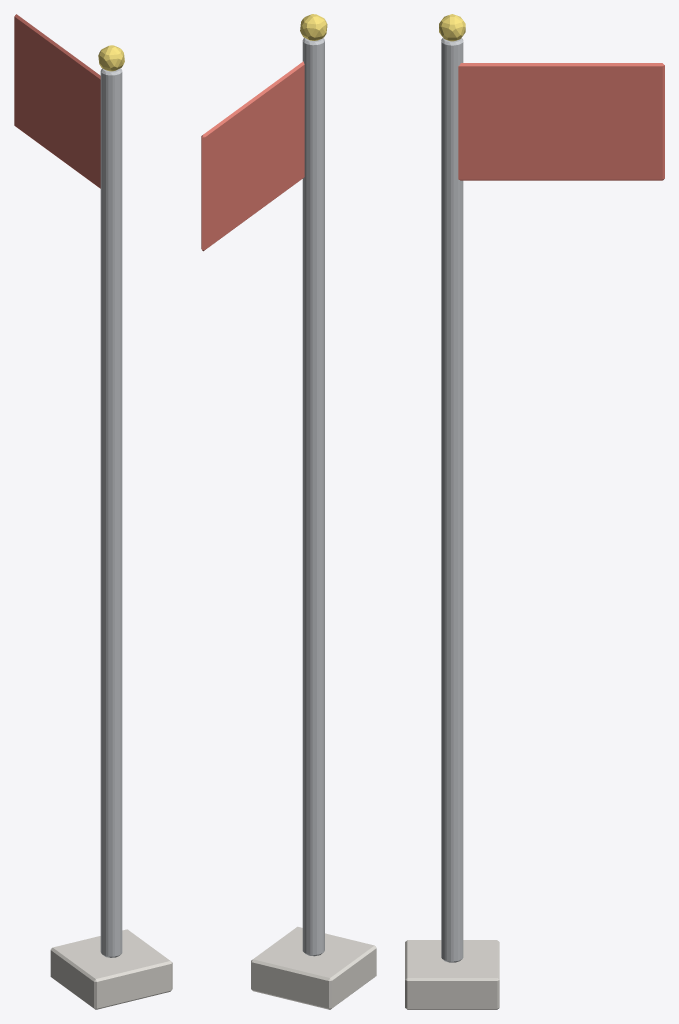
3 views of the same model, side by side, from view 1: azimuth 30°, elevation 25°; view 2: azimuth 150°, elevation 25°; view 3: azimuth 270°, elevation 25° (orthographic). The views are drawn at different scales.
Visible parts, largest first — view 1: 杆体, 旗帜, 基座.009, 顶球.001; view 2: 杆体, 旗帜, 基座.009, 顶球.001; view 3: 旗帜, 杆体, 基座.009, 顶球.001.
Boxes of the visible parts, <box> form: 杆体: <box>100,68,122,957</box>; 旗帜: <box>14,14,100,188</box>; 基座.009: <box>50,929,172,1009</box>; 顶球.001: <box>98,45,124,71</box>; 杆体: <box>302,38,324,956</box>; 旗帜: <box>201,61,304,251</box>; 基座.009: <box>251,926,376,1009</box>; 顶球.001: <box>300,14,327,40</box>; 旗帜: <box>458,63,664,180</box>; 杆体: <box>441,38,463,962</box>; 基座.009: <box>405,940,499,1009</box>; 顶球.001: <box>439,14,465,41</box>.
Size of the model in its own units: 80 by 912 by 220.
